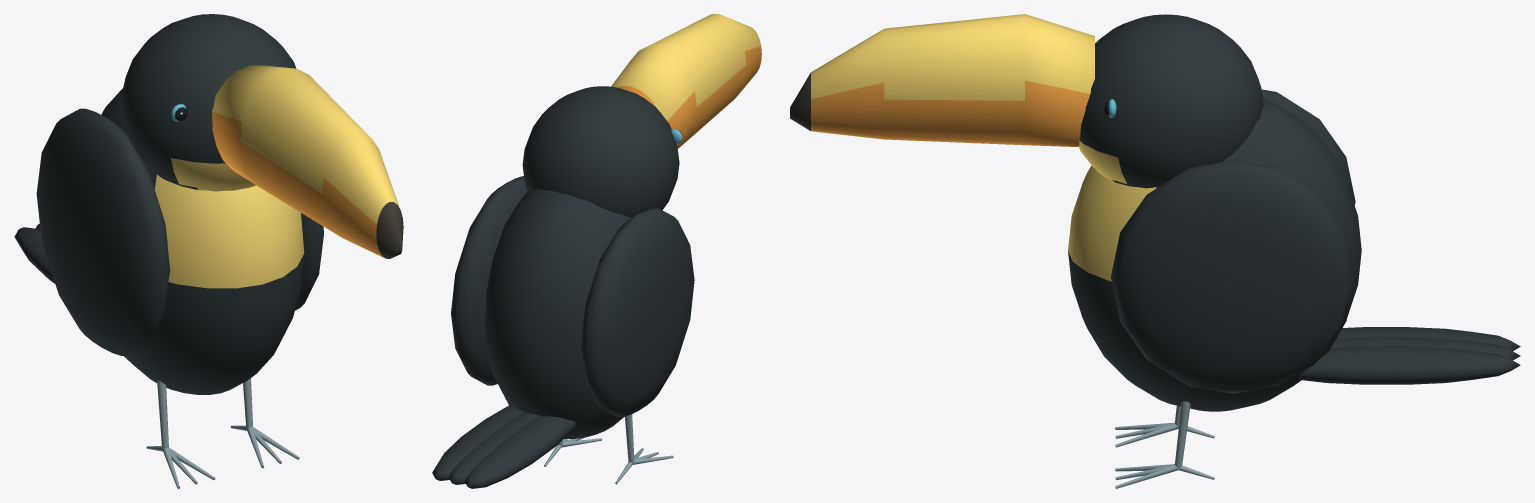
The model's file is bird_toucan.glb.
The picture shows the model from 3 angles, left to right: view 1: azimuth 30°, elevation 25°; view 2: azimuth 150°, elevation 25°; view 3: azimuth 270°, elevation 25°; orthographic projection. The views are drawn at different scales.
Parts seen in each view (by area): view 1: Toucan_Black_Body_With_Yellow_Breast, Toucan_Folded_Black_Wing_-1, Toucan_Large_Closed_Yellow_Orange_Bill, Toucan_Rounded_Black_Head, Toucan_Folded_Black_Wing_1, Toucan_Long_Tail_Feather_0, Toucan_Leg_-1; view 2: Toucan_Black_Body_With_Yellow_Breast, Toucan_Folded_Black_Wing_-1, Toucan_Rounded_Black_Head, Toucan_Large_Closed_Yellow_Orange_Bill, Toucan_Folded_Black_Wing_1, Toucan_Long_Tail_Feather_0, Toucan_Long_Tail_Feather_2, Toucan_Long_Tail_Feather_1; view 3: Toucan_Folded_Black_Wing_1, Toucan_Large_Closed_Yellow_Orange_Bill, Toucan_Rounded_Black_Head, Toucan_Black_Body_With_Yellow_Breast, Toucan_Long_Tail_Feather_2, Toucan_Long_Tail_Feather_0, Toucan_Long_Tail_Feather_1, Toucan_Folded_Black_Wing_-1.
Part boxes in pixels (bbox=[...]): Toucan_Black_Body_With_Yellow_Breast: bbox=[101, 88, 304, 394]; Toucan_Folded_Black_Wing_-1: bbox=[36, 108, 170, 355]; Toucan_Large_Closed_Yellow_Orange_Bill: bbox=[212, 65, 403, 258]; Toucan_Rounded_Black_Head: bbox=[121, 14, 296, 191]; Toucan_Folded_Black_Wing_1: bbox=[295, 213, 323, 310]; Toucan_Long_Tail_Feather_0: bbox=[14, 227, 54, 283]; Toucan_Leg_-1: bbox=[157, 380, 168, 450]; Toucan_Black_Body_With_Yellow_Breast: bbox=[484, 189, 631, 438]; Toucan_Folded_Black_Wing_-1: bbox=[581, 207, 694, 417]; Toucan_Rounded_Black_Head: bbox=[522, 86, 679, 217]; Toucan_Large_Closed_Yellow_Orange_Bill: bbox=[611, 14, 761, 148]; Toucan_Folded_Black_Wing_1: bbox=[451, 176, 527, 385]; Toucan_Long_Tail_Feather_0: bbox=[464, 416, 576, 488]; Toucan_Long_Tail_Feather_2: bbox=[432, 405, 523, 480]; Toucan_Long_Tail_Feather_1: bbox=[448, 412, 539, 484]; Toucan_Folded_Black_Wing_1: bbox=[1111, 160, 1355, 393]; Toucan_Large_Closed_Yellow_Orange_Bill: bbox=[790, 14, 1094, 146]; Toucan_Rounded_Black_Head: bbox=[1078, 14, 1263, 188]; Toucan_Black_Body_With_Yellow_Breast: bbox=[1068, 98, 1361, 411]; Toucan_Long_Tail_Feather_2: bbox=[1298, 346, 1520, 384]; Toucan_Long_Tail_Feather_0: bbox=[1337, 327, 1520, 350]; Toucan_Long_Tail_Feather_1: bbox=[1331, 337, 1520, 360]; Toucan_Folded_Black_Wing_-1: bbox=[1261, 89, 1355, 205].
Bounding box in the file's own units: 0.2 × 0.3982 × 0.597.
